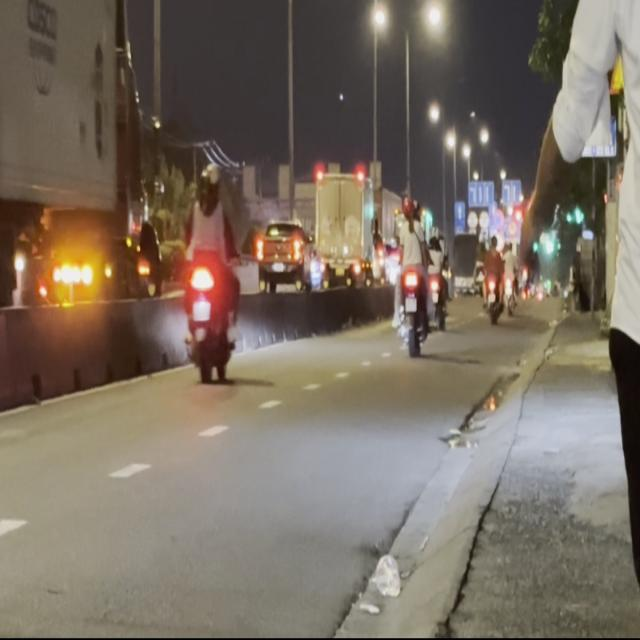helmet: (197, 162, 220, 201)
licenseplate: (180, 157, 243, 383)
